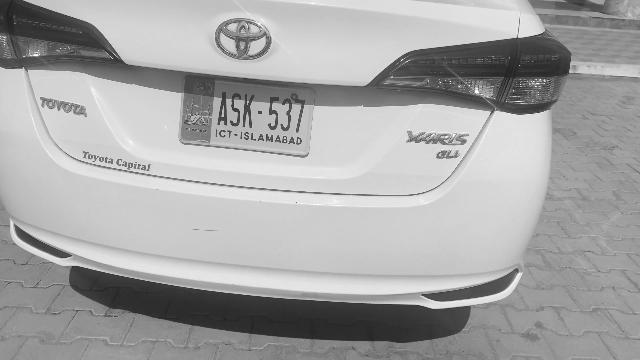Number: (214, 85, 309, 135)
